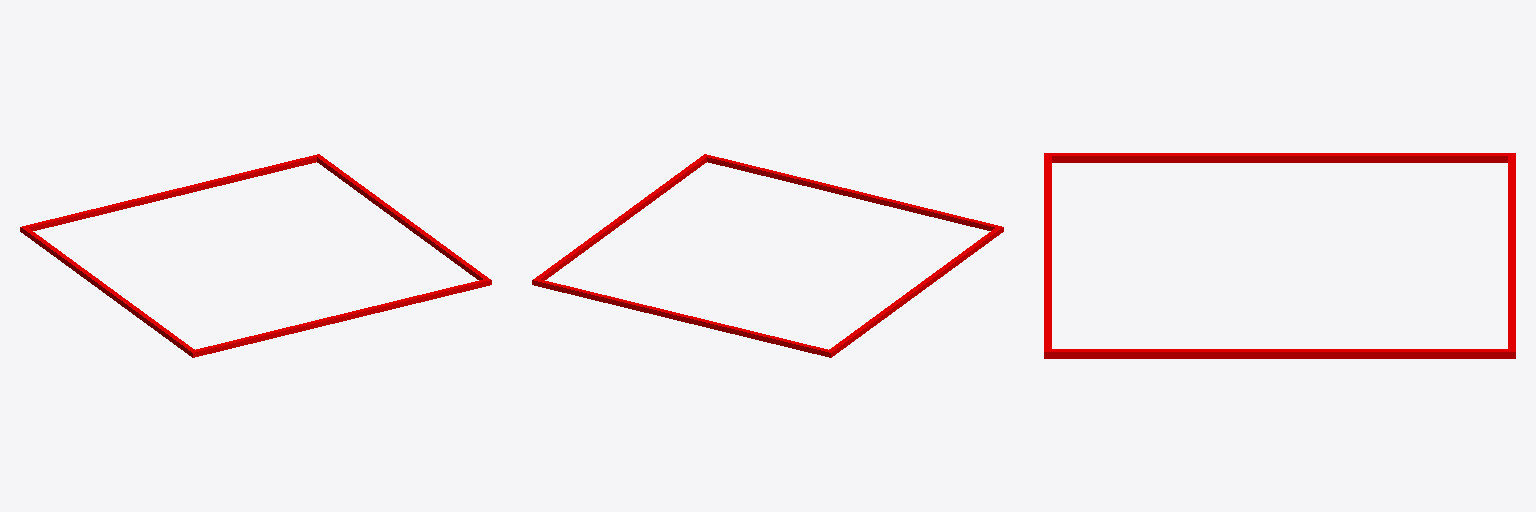
The robot description file, URDF, robot "rectangleexample":
<?xml version="1.0" ?>
<robot name="rectangleexample">
  <material name="red">
    <color rgba="1.0 0 0 1.0"/>
  </material>
  <link name="base_link">
    <inertial>
      <mass value="0"/>
      <inertia ixx="0" ixy="0" ixz="0" iyy="0" iyz="0" izz="0"/>
    </inertial>
  </link>
  <link name="top_border">
    <visual>
      <geometry>
        <box size="0.06 0.001 0.001"/>
      </geometry>
      <material name="red"/>
    </visual>
    <inertial>
      <mass value="0.0"/>
      <inertia ixx="0.0" ixy="0.0" ixz="0.0" iyy="0.0" iyz="0.0" izz="0.0"/>
    </inertial>
  </link>
  <link name="bottom_border">
    <visual>
      <geometry>
        <box size="0.06 0.001 0.001"/>
      </geometry>
      <material name="red"/>
    </visual>
    <inertial>
      <mass value="0.0"/>
      <inertia ixx="0.0" ixy="0.0" ixz="0.0" iyy="0.0" iyz="0.0" izz="0.0"/>
    </inertial>
  </link>
  <link name="left_border">
    <visual>
      <geometry>
        <box size="0.001 0.062 0.001"/>
      </geometry>
      <material name="red"/>
    </visual>
    <inertial>
      <mass value="0.0"/>
      <inertia ixx="0.0" ixy="0.0" ixz="0.0" iyy="0.0" iyz="0.0" izz="0.0"/>
    </inertial>
  </link>
  <link name="right_border">
    <visual>
      <geometry>
        <box size="0.001 0.062 0.001"/>
      </geometry>
      <material name="red"/>
    </visual>
    <inertial>
      <mass value="0.0"/>
      <inertia ixx="0.0" ixy="0.0" ixz="0.0" iyy="0.0" iyz="0.0" izz="0.0"/>
    </inertial>
  </link>
  <joint name="top_border_joint" type="fixed">
    <parent link="base_link"/>
    <child link="top_border"/>
    <origin xyz="0 0.0305 0" rpy="0 0 0"/>
  </joint>
  <joint name="bottom_border_joint" type="fixed">
    <parent link="base_link"/>
    <child link="bottom_border"/>
    <origin xyz="0 -0.0305 0" rpy="0 0 0"/>
  </joint>
  <joint name="left_border_joint" type="fixed">
    <parent link="base_link"/>
    <child link="left_border"/>
    <origin xyz="-0.0305 0 0" rpy="0 0 0"/>
  </joint>
  <joint name="right_border_joint" type="fixed">
    <parent link="base_link"/>
    <child link="right_border"/>
    <origin xyz="0.0305 0 0" rpy="0 0 0"/>
  </joint>
</robot>

--- What the picture shows (computed from the rendered views, not written in the file) ---
3 views of the same robot in one strip: view 1: azimuth 30°, elevation 25°; view 2: azimuth 150°, elevation 25°; view 3: azimuth 270°, elevation 25° (orthographic).
Robot: rectangleexample — 5 links, 4 joints (4 fixed); root link base_link; default pose: every joint at zero.
Visible links, largest first — view 1: bottom_border, top_border, left_border, right_border; view 2: top_border, bottom_border, left_border, right_border; view 3: right_border, left_border, top_border, bottom_border.
Link boxes in pixels (x1,y1,x2,y2): bottom_border: (196,279,486,356); top_border: (26,155,316,230); left_border: (20,226,197,357); right_border: (315,154,491,285); top_border: (537,279,827,356); bottom_border: (707,155,997,230); left_border: (826,226,1003,357); right_border: (532,154,708,285); right_border: (1044,349,1515,358); left_border: (1044,153,1515,162); top_border: (1508,156,1515,348); bottom_border: (1044,156,1051,348).
Size in the robot's own frame: 0.062 by 0.062 by 0.001 metres.
Geometry: primitives only (box / cylinder / sphere), no mesh files.